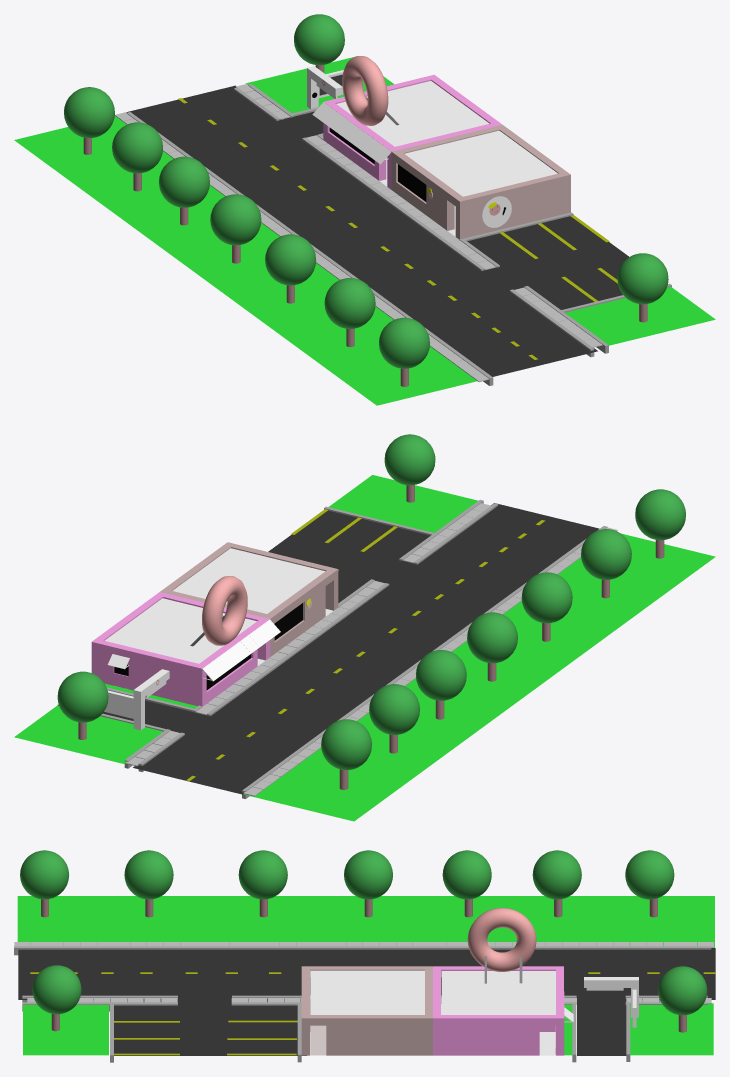
3 views of the same model, one above another, from view 1: azimuth 30°, elevation 25°; view 2: azimuth 150°, elevation 25°; view 3: azimuth 270°, elevation 25° (orthographic). The views are drawn at different scales.
Parts seen in each view (by area): view 1: Plane (×6), Box (×9), Sphere (×9), Torus, Box_3, Circle; view 2: Plane (×6), Sphere (×9), Box (×8), Box_1 (×2), Torus, Box_3; view 3: Plane (×8), Box (×13), Sphere (×9), Box_6, Torus, Box_12, Box_4.
Part boxes in pixels (x1,y1,x2,y2): Plane (×6): (14, 57, 715, 405); Box (×9): (126, 81, 570, 385); Sphere (×9): (64, 14, 668, 368); Torus: (342, 56, 388, 125); Box_3: (323, 129, 386, 180); Circle: (482, 196, 511, 227); Plane (×6): (14, 475, 715, 821); Sphere (×9): (57, 434, 685, 770); Box (×8): (105, 526, 607, 798); Box_1 (×2): (91, 639, 206, 705); Torus: (202, 576, 247, 645); Box_3: (195, 655, 257, 706); Plane (×8): (17, 896, 715, 1055); Box (×13): (14, 946, 711, 1055); Sphere (×9): (20, 850, 707, 1015); Box_6: (433, 1015, 539, 1055); Torus: (467, 908, 536, 971); Box_12: (433, 1015, 555, 1025); Box_4: (441, 966, 555, 977).
Size of the model in its own units: 46.39 by 14.65 by 85.58.
